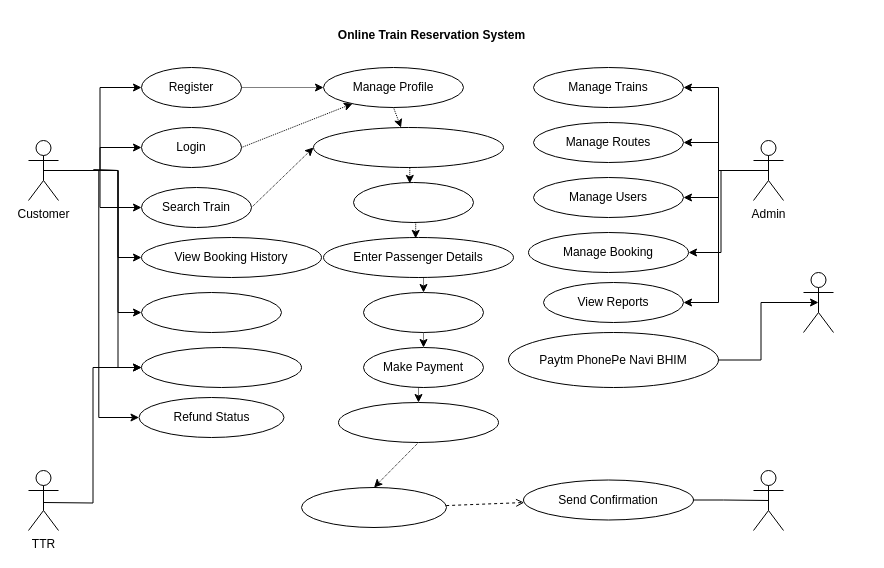
The diagram is 884 pixels wide and 568 high, and some of its shapes have lost their labels. The shapes that lost their labels are listed below. From the top down, each one's box as (x1, y1, x2, y2) in pixels, then its label:
(312, 126, 504, 168): Check Train Availability
(352, 182, 474, 222): Select Train
(140, 292, 282, 332): Cancel Booking
(362, 292, 484, 332): Select Seat
(802, 272, 834, 332): Payment Gateway
(140, 346, 302, 388): Check PNR Status
(338, 402, 498, 442): Booking Confirmed
(300, 486, 446, 528): Download ticket
(752, 470, 784, 530): IRCTC System
